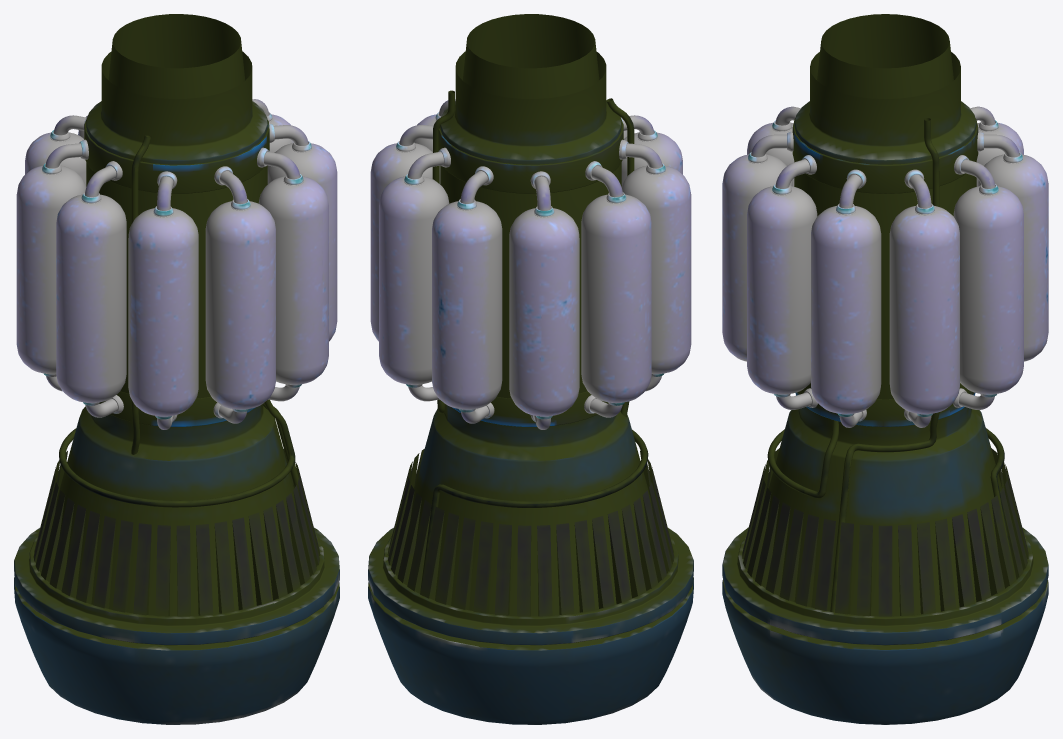
Rendered from BoosterEngine.fbx.
The picture shows the model from 3 angles, left to right: view 1: azimuth 30°, elevation 25°; view 2: azimuth 150°, elevation 25°; view 3: azimuth 270°, elevation 25°; orthographic projection.
Visible parts, largest first — view 1: Cylinder.003, Cylinder.002; view 2: Cylinder.003, Cylinder.002; view 3: Cylinder.003, Cylinder.002.
Boxes of the visible parts, box(x1,y1,x2,y2) form: Cylinder.003: box(14, 14, 339, 724); Cylinder.002: box(16, 99, 337, 429); Cylinder.003: box(368, 14, 693, 724); Cylinder.002: box(370, 99, 691, 429); Cylinder.003: box(722, 14, 1048, 724); Cylinder.002: box(722, 106, 1048, 427).
Bounding box in the file's own units: 478 × 1023 × 478.
